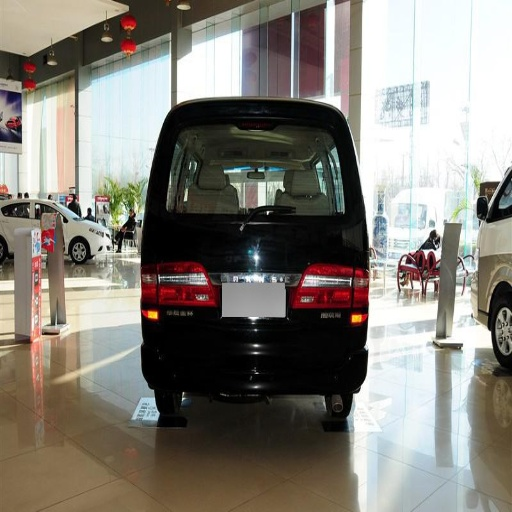back_bumper: (140, 328, 267, 397)
trunk: (163, 244, 354, 365)
